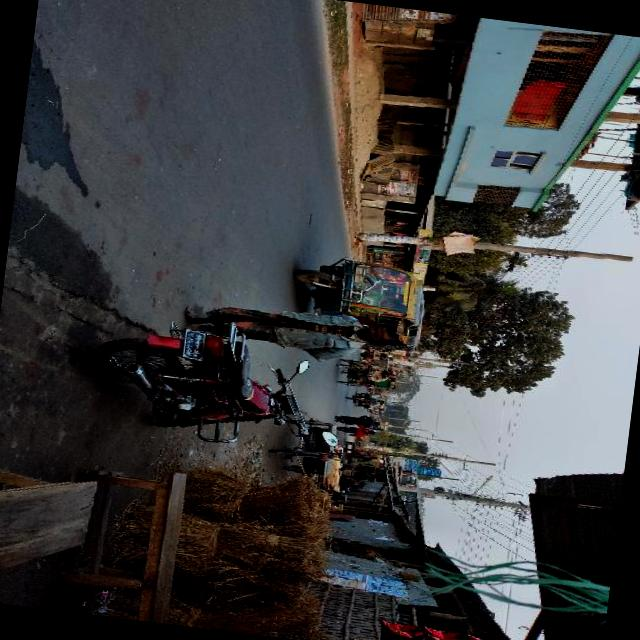motorcycle: (78, 298, 352, 472), (279, 243, 431, 362), (332, 354, 401, 393)
